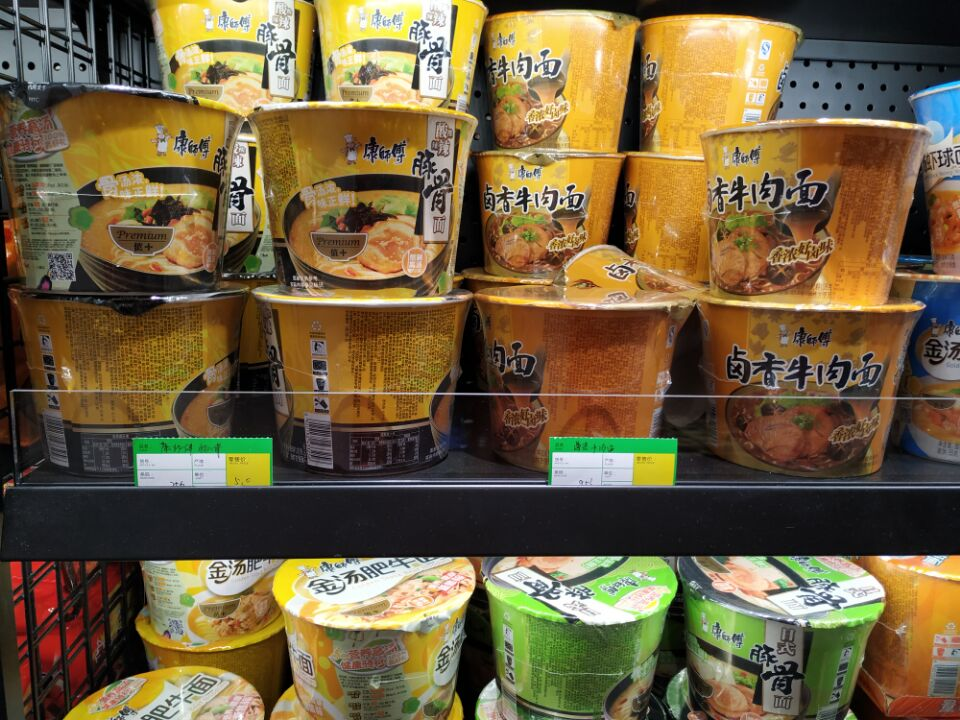luxiang: (700, 120, 931, 306), (474, 287, 692, 474), (699, 306, 927, 479), (483, 10, 643, 149), (476, 150, 624, 281)
